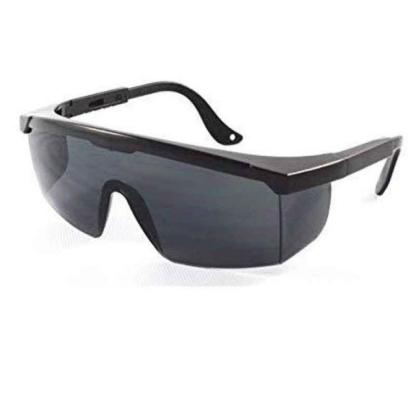oculos: (11, 100, 388, 276)
